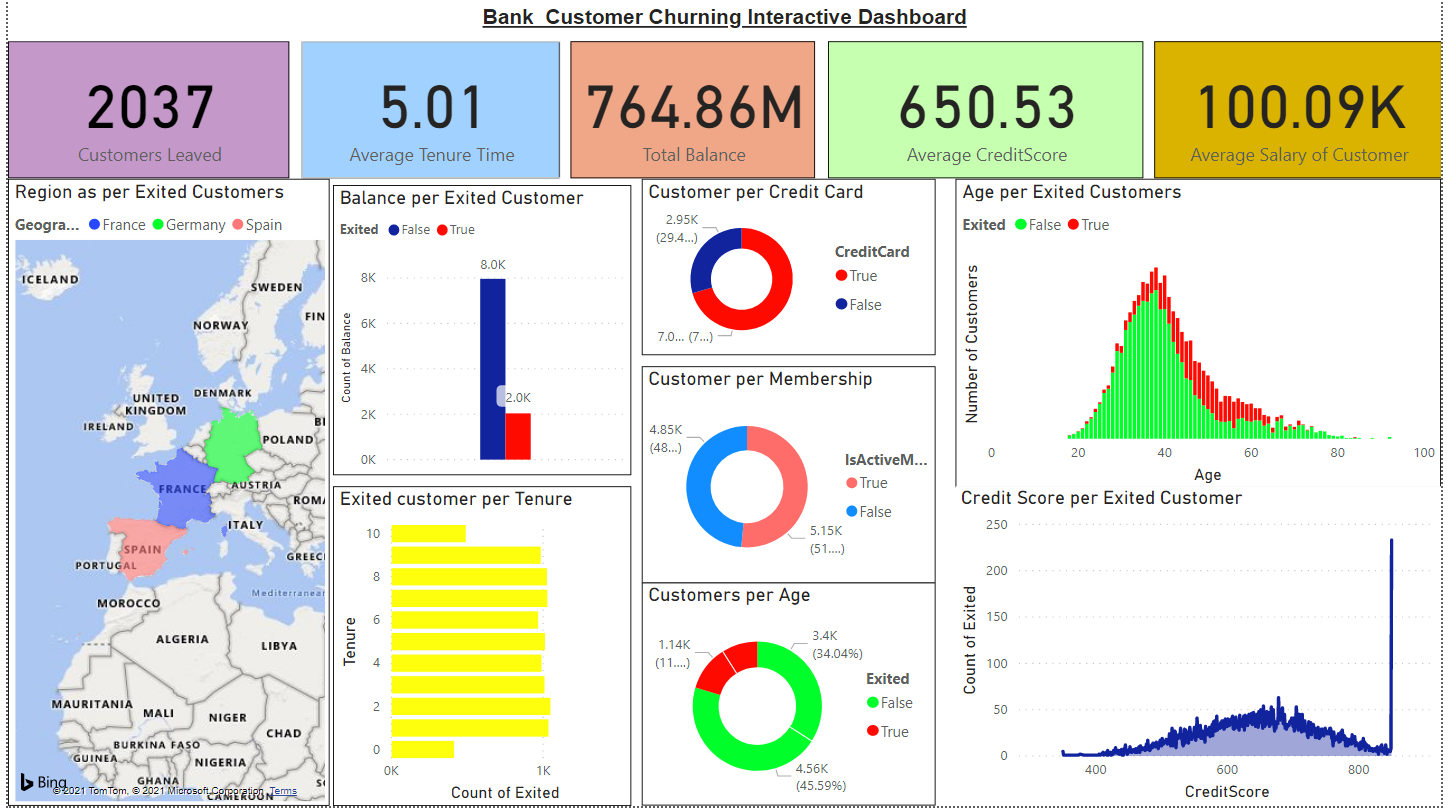

The dashboard page shown, as its layout file describes it:
{"tool":"powerbi","page":{"name":"Page 1","canvas":[1280,720],"ordinal":0},"visuals":[{"type":"donutChart","title":"Customer per Membership","fields":{"Y":["CountNonNull(BankCustomers.Exited)"],"Category":["BankCustomers.IsActiveMember"]},"box":[565.8,326.9,262.3,193.6],"z":0},{"type":"card","fields":{"Values":["BankCustomers.Count of Exited max per Exited min per Exited"]},"box":[0,37.1,251.3,122.2],"z":1000},{"type":"card","fields":{"Values":["Avg(BankCustomers.Tenure)"]},"box":[262.3,37.1,230.7,122.2],"z":2000},{"type":"donutChart","title":"Customers per Age","fields":{"Y":["CountNonNull(BankCustomers.Exited)"],"Category":["BankCustomers.Exited"],"Series":["BankCustomers.Gender"]},"box":[565.8,520.5,262.3,199.1],"z":3000},{"type":"filledMap","title":"Region as per Exited Customers","fields":{"Series":["BankCustomers.Geography"],"Category":["BankCustomers.Geography"]},"box":[0,159.3,287,560.3],"z":4000},{"type":"lineStackedColumnComboChart","title":"Age per Exited Customers","fields":{"Category":["BankCustomers.Age"],"Y":["Sum(BankCustomers.Age)"],"Series":["BankCustomers.Exited"]},"box":[846,159.3,434,276.1],"z":5000},{"type":"textbox","box":[0,0,1280,37.1],"z":6000},{"type":"card","fields":{"Values":["Sum(BankCustomers.Balance)"]},"box":[502.7,37.1,218.4,122.2],"z":7000},{"type":"card","fields":{"Values":["Avg(BankCustomers.CreditScore)"]},"box":[732,37.1,281.5,122.2],"z":8000},{"type":"card","fields":{"Values":["Avg(BankCustomers.EstimatedSalary)"]},"box":[1023.2,37.1,256.8,122.2],"z":9000},{"type":"donutChart","title":"Customer per Credit Card","fields":{"Y":["CountNonNull(BankCustomers.Exited)"],"Series":["BankCustomers.CreditCard"]},"box":[565.8,159.3,262.3,157.9],"z":10000},{"type":"areaChart","title":"Credit Score per Exited Customer","fields":{"Y":["CountNonNull(BankCustomers.Exited)"],"Category":["BankCustomers.CreditScore"]},"box":[846,434,434,285.7],"z":11000},{"type":"lineClusteredColumnComboChart","title":"Balance per Exited Customer","fields":{"Y":["CountNonNull(BankCustomers.Balance)"],"Series":["BankCustomers.Exited"]},"box":[289.8,164.8,266.4,259.6],"z":12000},{"type":"barChart","title":"Exited customer per Tenure","fields":{"Y":["CountNonNull(BankCustomers.Exited)"],"Category":["BankCustomers.Tenure"]},"box":[289.8,434,266.4,285.7],"z":13000}]}

Visuals, with their boxes in screenshot pixels (x1, y1, x2, y2), scaled from the page's 1280x720 canvas onto the 1451x812 screenshot:
"Customer per Membership" donutChart: 641:369:939:587
card - BankCustomers.Count of Exited max per Exited min per Exited: 0:42:285:180
card - Avg(BankCustomers.Tenure): 297:42:559:180
"Customers per Age" donutChart: 641:587:939:811
"Region as per Exited Customers" filledMap: 0:180:325:811
"Age per Exited Customers" lineStackedColumnComboChart: 959:180:1450:491
textbox: 0:0:1450:42
card - Sum(BankCustomers.Balance): 570:42:817:180
card - Avg(BankCustomers.CreditScore): 830:42:1149:180
card - Avg(BankCustomers.EstimatedSalary): 1160:42:1450:180
"Customer per Credit Card" donutChart: 641:180:939:358
"Credit Score per Exited Customer" areaChart: 959:489:1450:811
"Balance per Exited Customer" lineClusteredColumnComboChart: 329:186:631:479
"Exited customer per Tenure" barChart: 329:489:631:811
